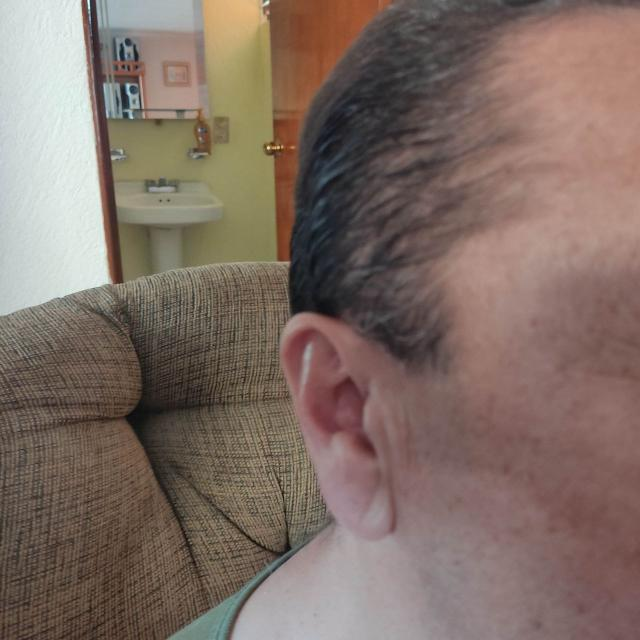ear: (282, 312, 395, 540)
